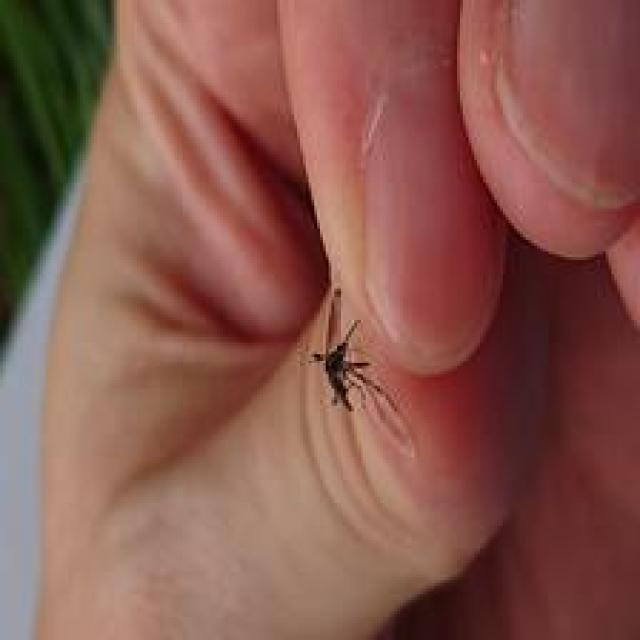Aedes albopictus: (296, 286, 416, 460)
